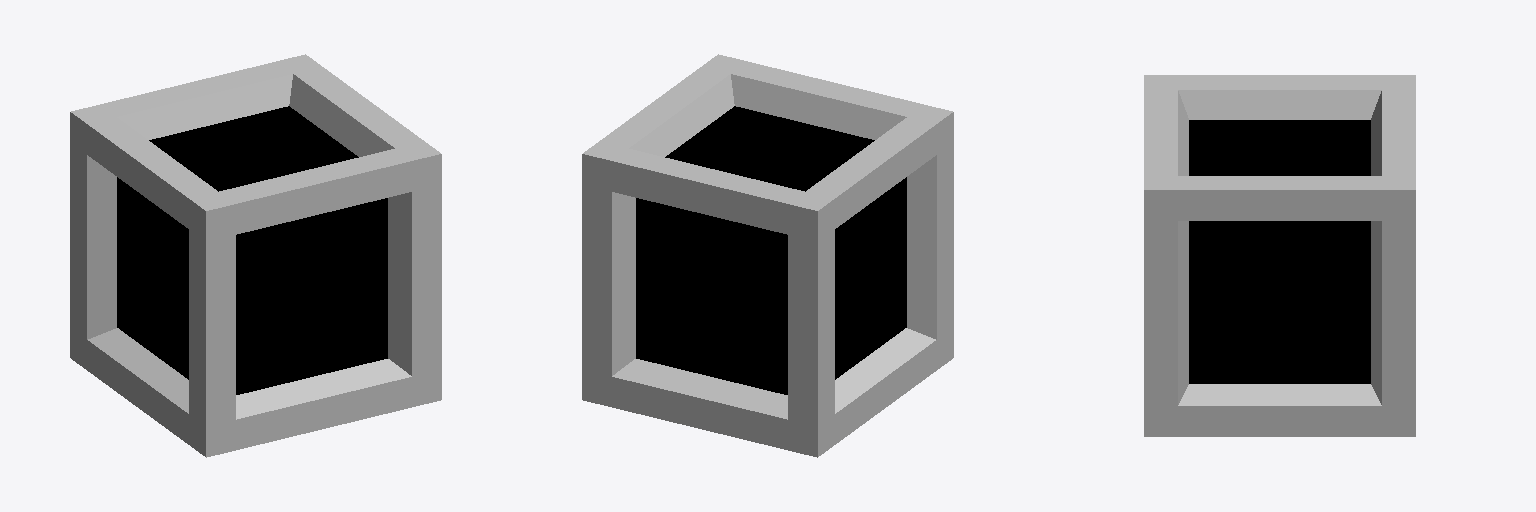
Rendered from itembox.obj.
The picture shows the model from 3 angles: view 1: azimuth 30°, elevation 25°; view 2: azimuth 150°, elevation 25°; view 3: azimuth 270°, elevation 25°; orthographic projection.
Parts seen in each view (by area): view 1: Cube; view 2: Cube; view 3: Cube.
Boxes of the visible parts, <box> form: Cube: <box>70,54,441,457</box>; Cube: <box>582,54,953,457</box>; Cube: <box>1144,75,1415,436</box>.
Size of the model in its own units: 2.4 by 2.4 by 2.4.